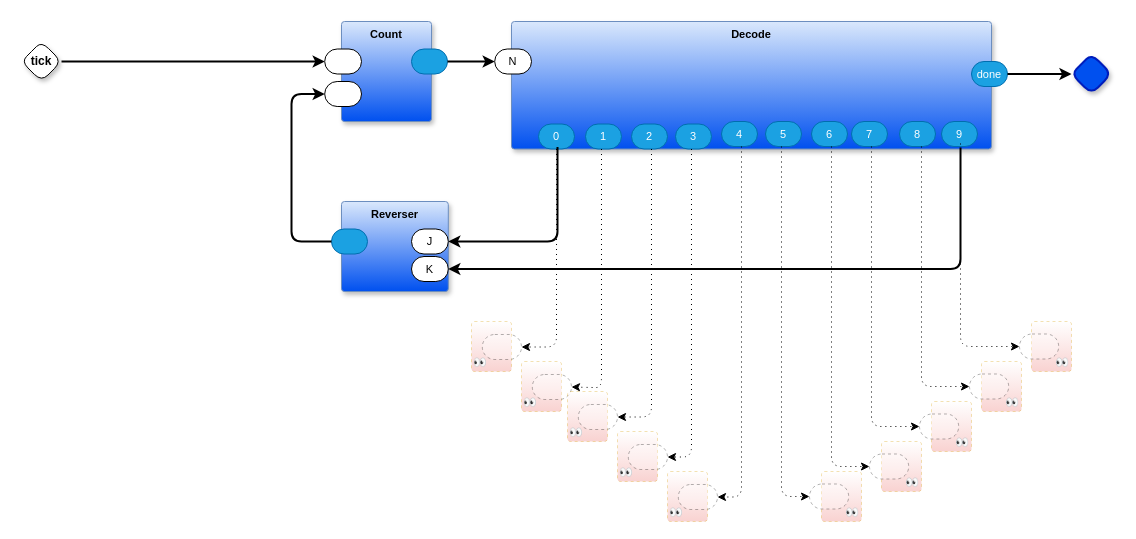
Some shapes in this 1136 by 539 pixel diagram are drawn without their labels. The shapes that lost their labels are listed below. From the top down, each one's centre as x and y in pixels, then its label:
At (x=343, y=61): "adv".
At (x=343, y=93): "rev".
